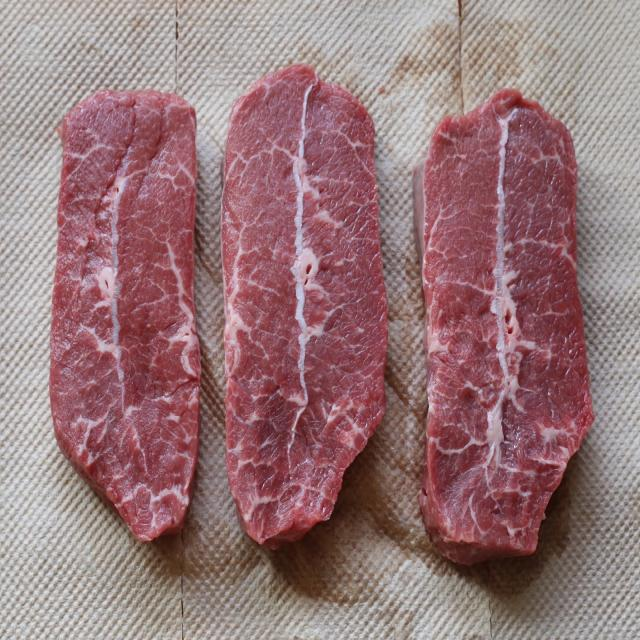beef: (421, 136, 562, 542), (228, 89, 359, 506), (60, 109, 189, 472)
